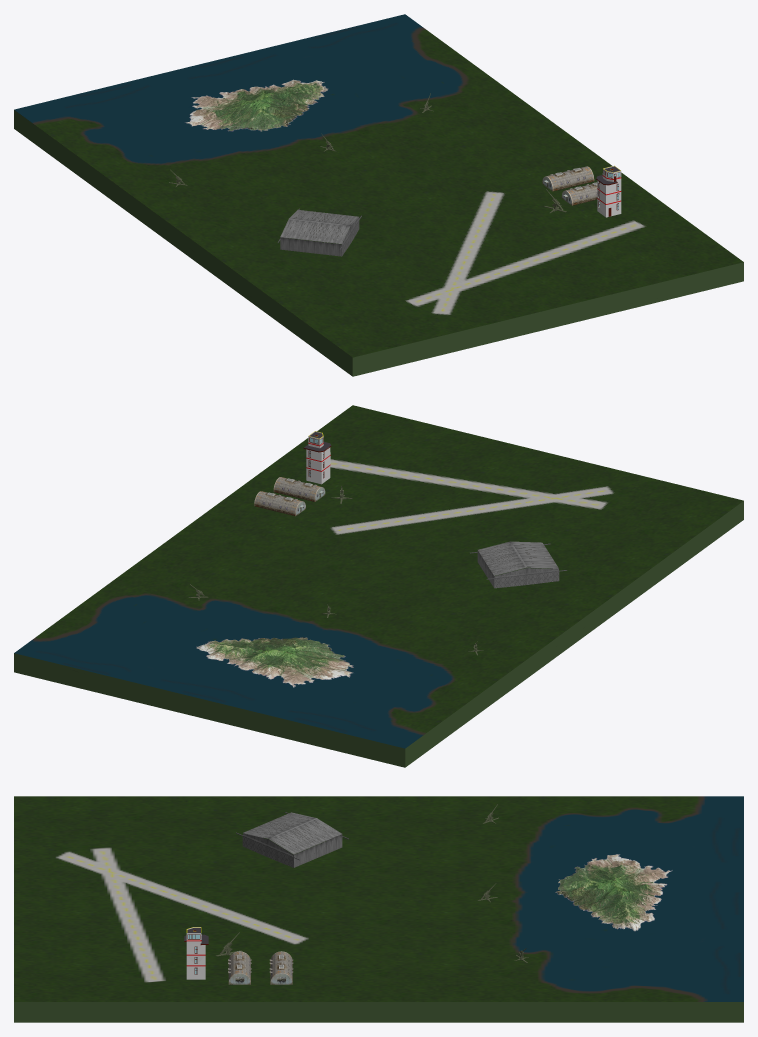
The model's file is Guadalcanal.glb.
3 renders of one model, top to bottom at view 1: azimuth 30°, elevation 25°; view 2: azimuth 150°, elevation 25°; view 3: azimuth 270°, elevation 25°, orthographic. The views are drawn at different scales.
Parts seen in each view (by area): view 1: Cube, UaPouLP v2_Material #74_0, Object_2, German.Control.Tower.1.700, Cylinder001_Barrack Texture Map_0.002, Cylinder001_Barrack Texture Map_0.001; view 2: Cube, UaPouLP v2_Material #74_0, Object_2, German.Control.Tower.1.700, Cylinder001_Barrack Texture Map_0.002, Cylinder001_Barrack Texture Map_0.001; view 3: Cube, UaPouLP v2_Material #74_0, Object_2, German.Control.Tower.1.700, Cylinder001_Barrack Texture Map_0.002, Cylinder001_Barrack Texture Map_0.001.
Part boxes in pixels (box(x1,y1,x2,y2)): Cube: box(14, 14, 743, 376); UaPouLP v2_Material #74_0: box(184, 79, 329, 132); Object_2: box(277, 208, 361, 256); German.Control.Tower.1.700: box(596, 165, 621, 217); Cylinder001_Barrack Texture Map_0.002: box(542, 166, 594, 191); Cylinder001_Barrack Texture Map_0.001: box(561, 182, 597, 205); Cube: box(14, 405, 743, 767); UaPouLP v2_Material #74_0: box(194, 637, 354, 687); Object_2: box(470, 541, 567, 588); German.Control.Tower.1.700: box(303, 431, 331, 484); Cylinder001_Barrack Texture Map_0.002: box(254, 491, 305, 516); Cylinder001_Barrack Texture Map_0.001: box(273, 477, 325, 501); Cube: box(14, 796, 743, 1022); UaPouLP v2_Material #74_0: box(555, 854, 672, 931); Object_2: box(236, 812, 348, 867); German.Control.Tower.1.700: box(184, 927, 208, 979); Cylinder001_Barrack Texture Map_0.002: box(269, 951, 293, 984); Cylinder001_Barrack Texture Map_0.001: box(228, 951, 251, 984).
Bounding box in the file's own units: 256 × 39 × 384.
Materials: 19 (5 with a texture image).
